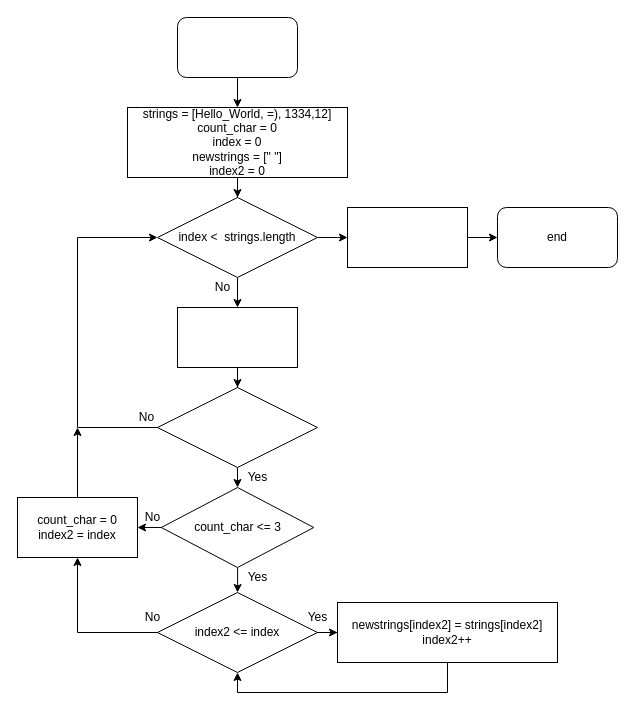
Image size: 635x718. Some labels were removed from this diagram. The centre of each missing label's shape, as x and y in pixels:
index++ count_char++: point 237,337
print(newstrings): point 407,237
start: point 237,47
strings[index] = " ": point 237,427
